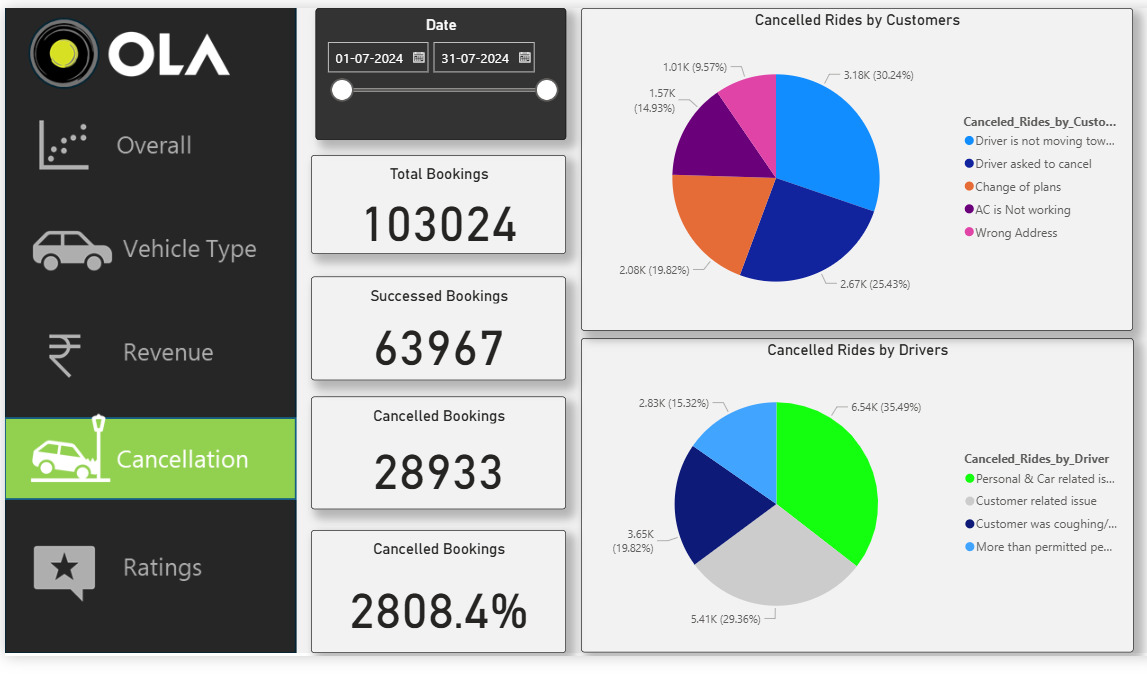

The dashboard page shown, as its layout file describes it:
{"tool":"powerbi","page":{"name":"Cancellation","canvas":[1280,720],"ordinal":3},"visuals":[{"type":"actionButton","box":[0,101.6,322,90.7],"z":0},{"type":"actionButton","box":[0,228.2,322,90.7],"z":1000},{"type":"actionButton","box":[0,342.3,322,90.7],"z":2000},{"type":"actionButton","box":[0,451.7,322,90.7],"z":3000},{"type":"actionButton","box":[0,579.9,322,90.7],"z":4000},{"type":"pieChart","title":"Cancelled Rides by Customers","fields":{"Category":["July.Canceled_Rides_by_Customer"],"Y":["CountNonNull(July.Canceled_Rides_by_Driver)"]},"box":[640,0,613.3,358.3],"z":5000},{"type":"pieChart","title":"Cancelled Rides by Drivers","fields":{"Category":["July.Canceled_Rides_by_Driver"],"Y":["CountNonNull(July.Canceled_Rides_by_Driver)"]},"box":[640.6,366.6,614.2,349.6],"z":6000},{"type":"slicer","title":"Date","fields":{"Values":["July.Date"]},"box":[345,0,278.3,146.7],"z":7000},{"type":"card","title":"Total Bookings","fields":{"Values":["Count(July.Booking_ID)"]},"box":[340,163.3,283.3,110],"z":8000},{"type":"card","title":"Successed Bookings","fields":{"Values":["Count(July.Booking_ID)"]},"box":[340,298.3,283.3,115],"z":9000},{"type":"card","title":"Cancelled Bookings","fields":{"Values":["Count(July.Booking_ID)"]},"box":[340,431.7,283.3,125],"z":10000},{"type":"card","title":"Cancelled Bookings","fields":{"Values":["July.CanceledPercentge"]},"box":[340,580,283.3,136.7],"z":11000}]}

Visuals, with their boxes on the page's 1280x720 design canvas (x1, y1, x2, y2). These are canvas units, not pixel positions in the 1147x676 screenshot, which may show the page scaled, cropped or inside an application window:
actionButton: box(0, 102, 322, 192)
actionButton: box(0, 228, 322, 319)
actionButton: box(0, 342, 322, 433)
actionButton: box(0, 452, 322, 542)
actionButton: box(0, 580, 322, 671)
"Cancelled Rides by Customers" pieChart: box(640, 0, 1253, 358)
"Cancelled Rides by Drivers" pieChart: box(641, 367, 1255, 716)
"Date" slicer: box(345, 0, 623, 147)
"Total Bookings" card: box(340, 163, 623, 273)
"Successed Bookings" card: box(340, 298, 623, 413)
"Cancelled Bookings" card: box(340, 432, 623, 557)
"Cancelled Bookings" card: box(340, 580, 623, 717)
